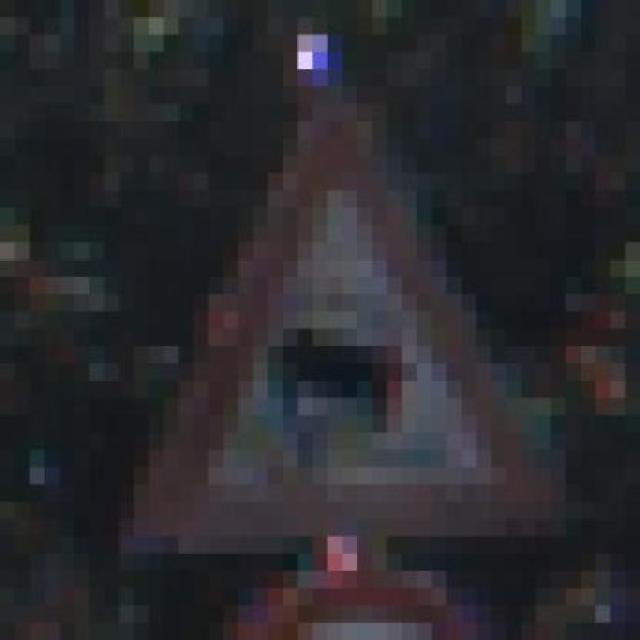Slippery Road Ahead: (89, 86, 580, 571)
